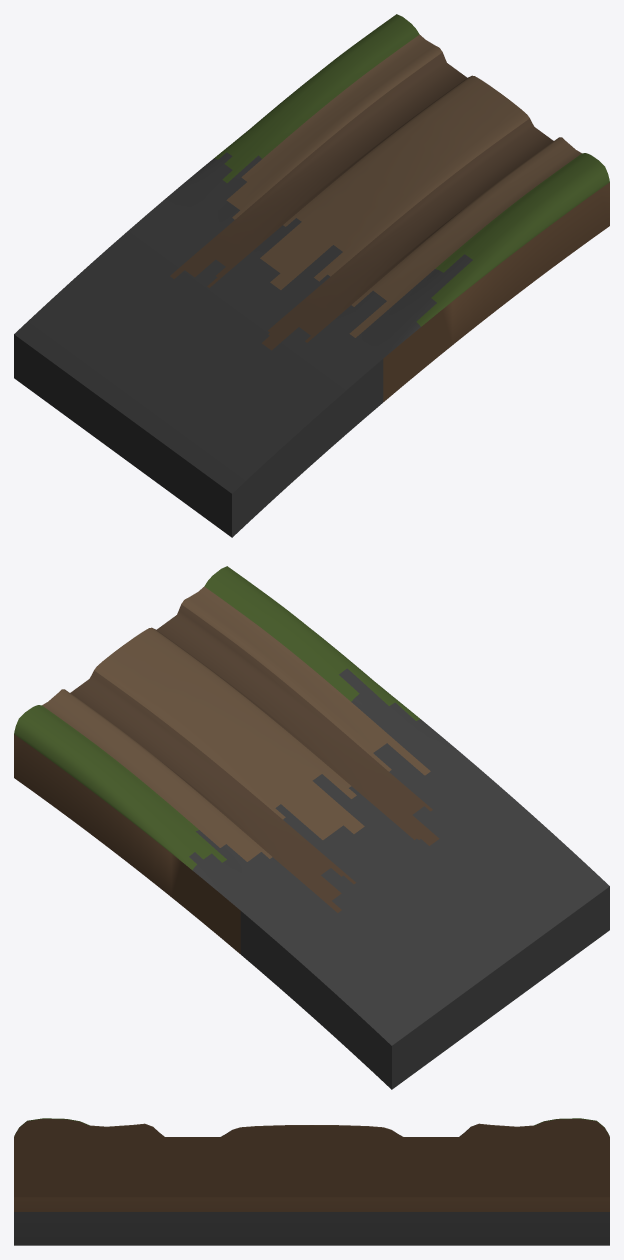
The picture shows the model from 3 angles, top to bottom: view 1: azimuth 30°, elevation 25°; view 2: azimuth 150°, elevation 25°; view 3: azimuth 270°, elevation 25°; orthographic projection. The views are drawn at different scales.
Parts seen in each view (by area): view 1: e23u; view 2: e23u; view 3: e23u.
Boxes of the visible parts, x1=… form: e23u: x1=14, y1=14, x2=609, y2=537; e23u: x1=14, y1=566, x2=609, y2=1089; e23u: x1=14, y1=1118, x2=609, y2=1245.
Bounding box in the file's own units: 9 × 6.31 × 9.
